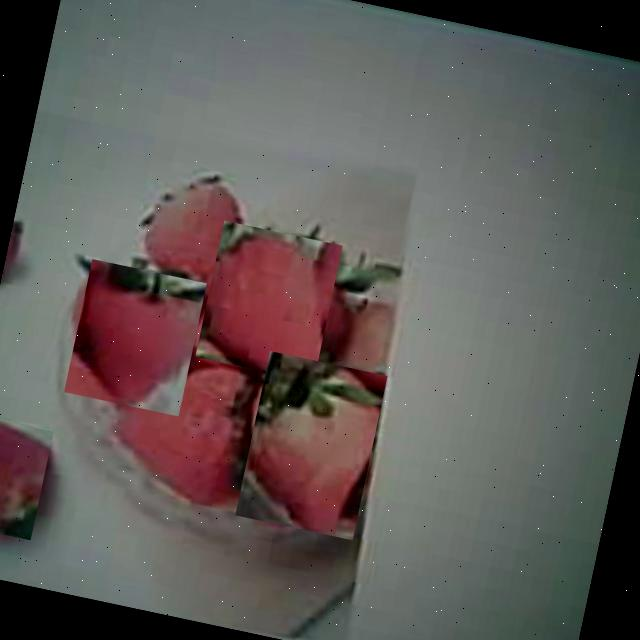ripe: (235, 350, 388, 540), (109, 348, 257, 511), (195, 220, 344, 381), (64, 258, 208, 416), (0, 414, 54, 540)
